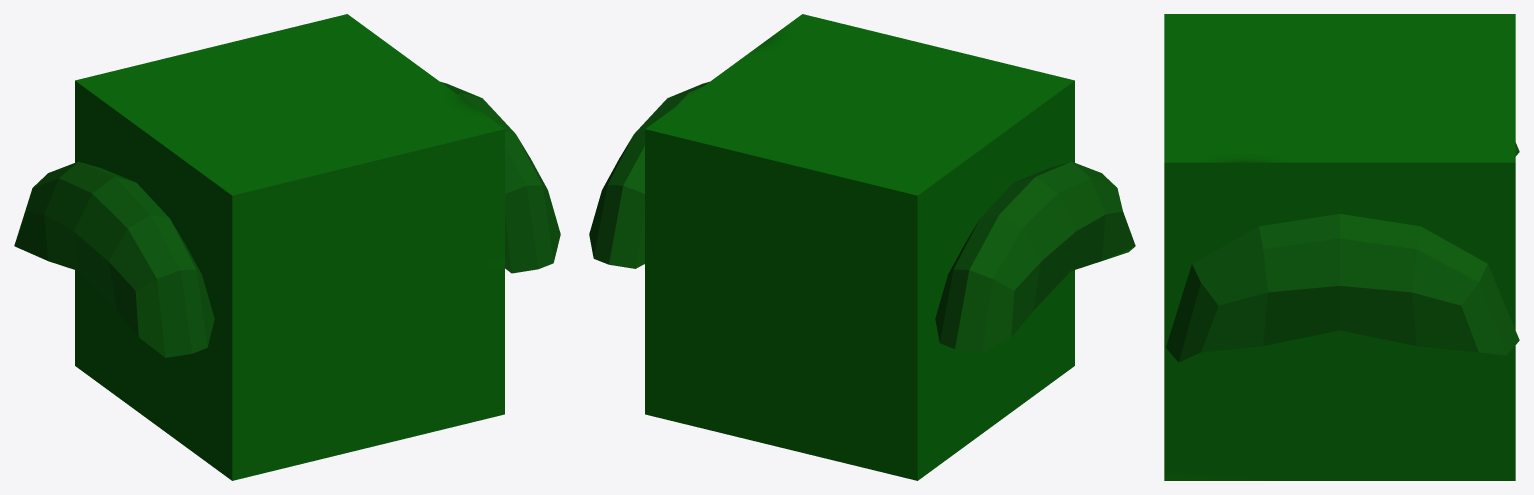
The model's file is tank_body.obj.
3 views of the same model, side by side, from view 1: azimuth 30°, elevation 25°; view 2: azimuth 150°, elevation 25°; view 3: azimuth 270°, elevation 25° (orthographic). The views are drawn at different scales.
Parts seen in each view (by area): view 1: body_Cube, body.002_Cube.002, body.001_Cube.001; view 2: body_Cube, body.002_Cube.002, body.001_Cube.001; view 3: body_Cube, body.001_Cube.001.
Part boxes in pixels (x1,y1,x2,y2): body_Cube: (75, 14, 504, 480); body.002_Cube.002: (14, 161, 214, 357); body.001_Cube.001: (440, 81, 560, 273); body_Cube: (645, 14, 1074, 480); body.002_Cube.002: (935, 161, 1135, 353); body.001_Cube.001: (589, 81, 709, 268); body_Cube: (1164, 14, 1515, 480); body.001_Cube.001: (1166, 214, 1519, 362).
Bounding box in the file's own units: 2.4 × 1.53 × 1.55.
Materials: 1 (1 with a texture image).
